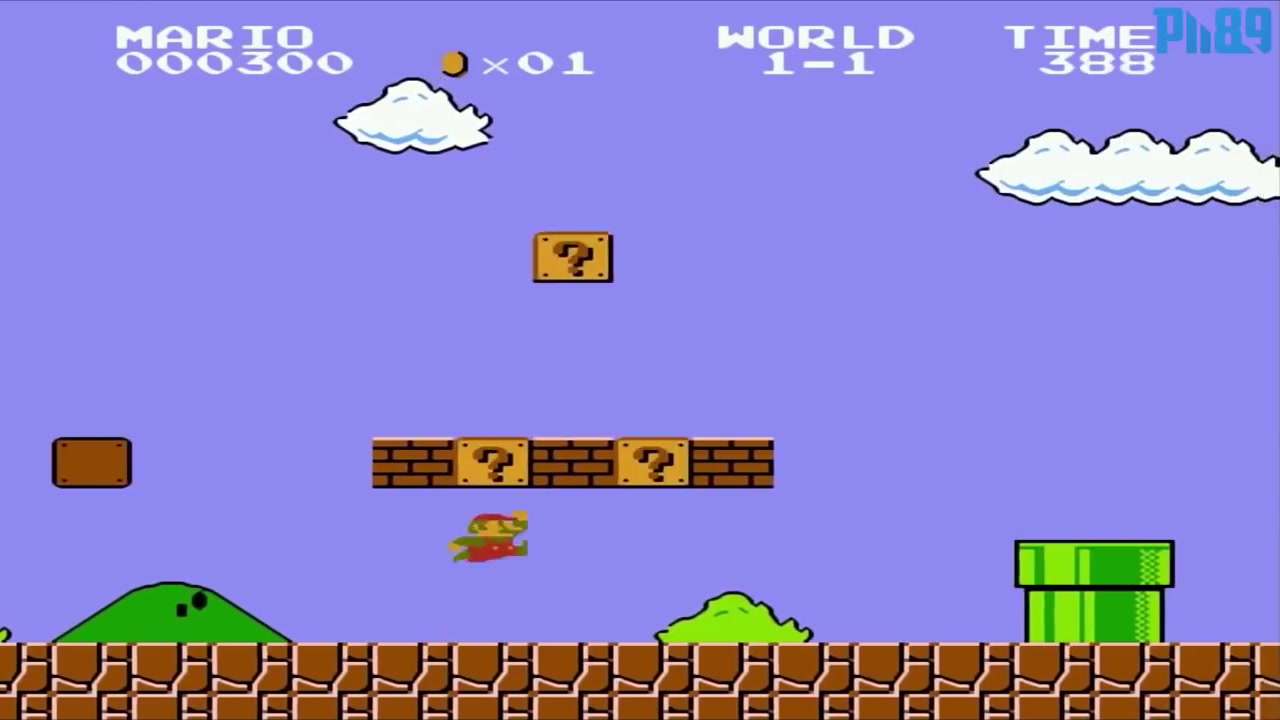mario: (438, 502, 536, 572)
